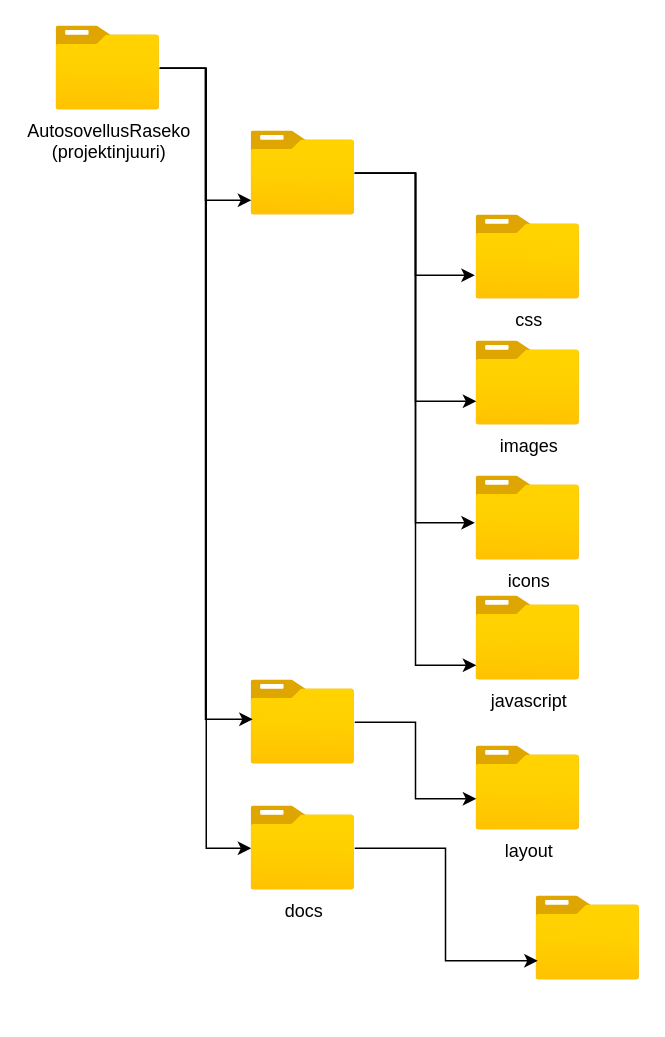
The diagram is 665 pixels wide and 1037 high, and some of its shapes have lost their labels. The centre of each missing label's shape, as x and y in pixels:
"pictures" belongs at (x=587, y=938).
"public" belongs at (x=302, y=172).
"views" belongs at (x=302, y=722).
